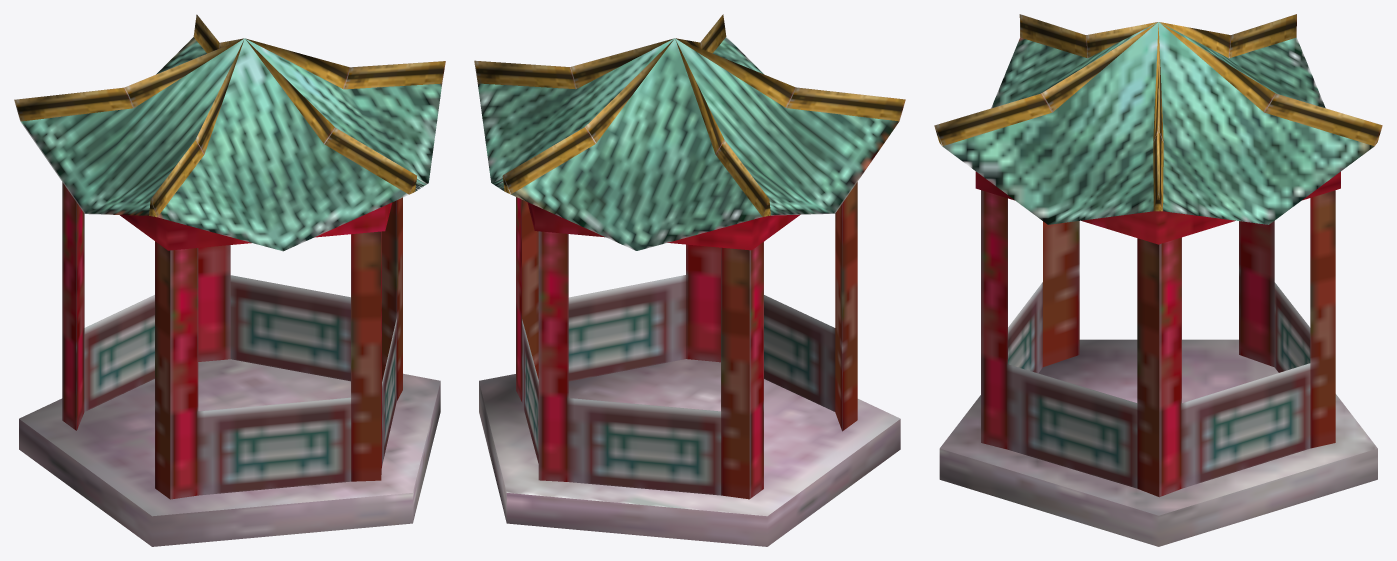
The model's file is USA - Prop - Ancient Gazebo - PACnsGzbo.glb.
3 renders of one model, left to right at view 1: azimuth 30°, elevation 25°; view 2: azimuth 150°, elevation 25°; view 3: azimuth 270°, elevation 25°, orthographic.
Visible parts, largest first — view 1: PACNSGZBO; view 2: PACNSGZBO; view 3: PACNSGZBO.
Part boxes in pixels (left/top/right/bottom): PACNSGZBO: left=14, top=14, right=445, bottom=546; PACNSGZBO: left=474, top=14, right=905, bottom=546; PACNSGZBO: left=934, top=14, right=1382, bottom=546.
Bounding box in the file's own units: 24.53 × 27.15 × 25.78.
Materials: 1 (1 with a texture image).
